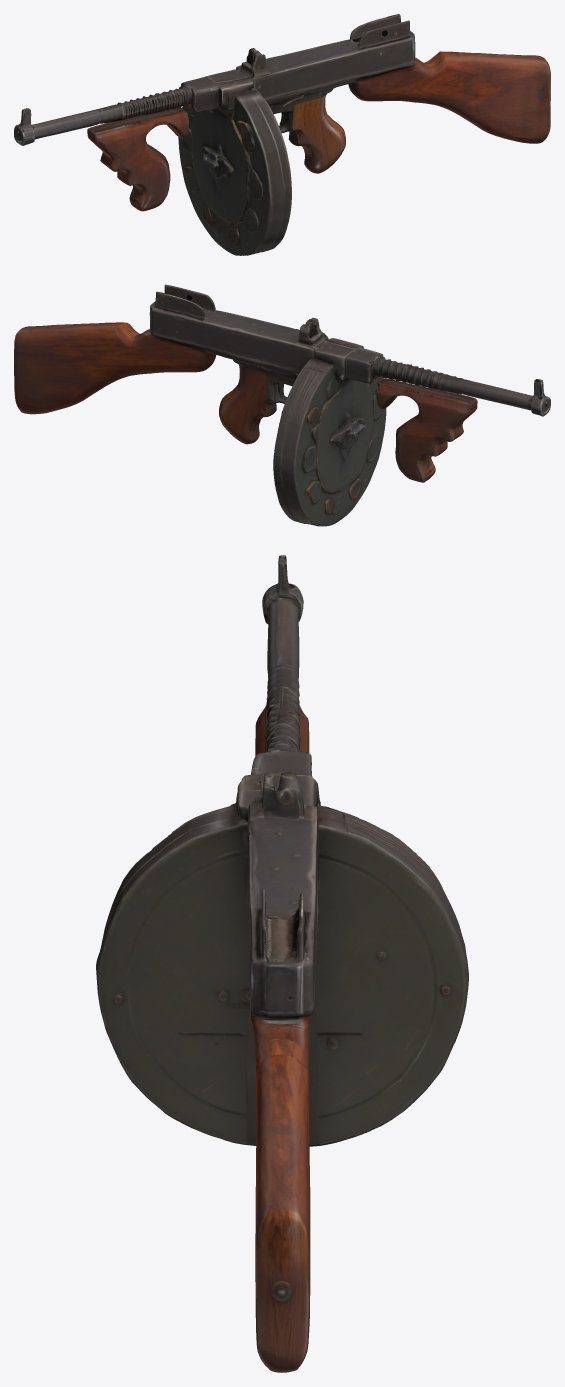
File: tommy_gun.glb
The picture shows the model from 3 angles, top to bottom: view 1: azimuth 30°, elevation 25°; view 2: azimuth 150°, elevation 25°; view 3: azimuth 270°, elevation 25°; orthographic projection. The views are drawn at different scales.
Size of the model in its own units: 2 by 0.6959 by 0.613.
1 material, 1 textured.
